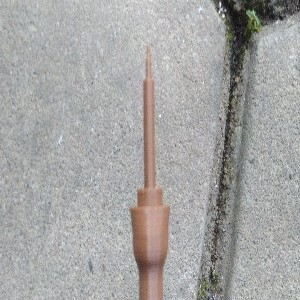solder: (129, 45, 171, 300)
